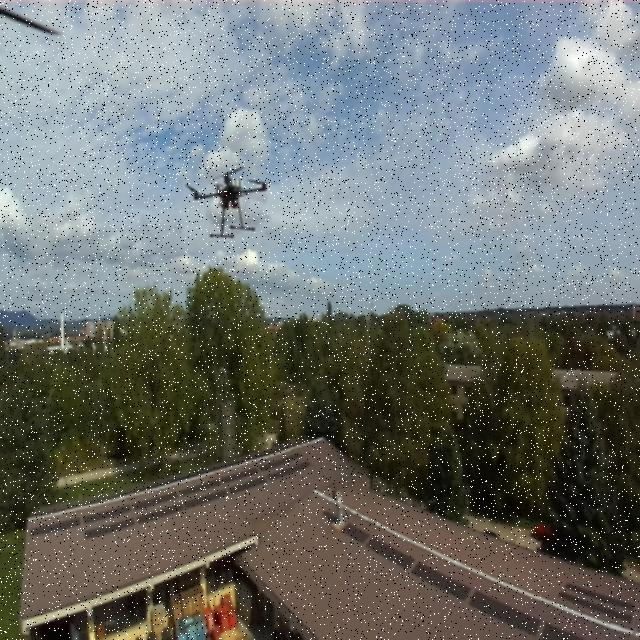UAV: (183, 162, 281, 242)
